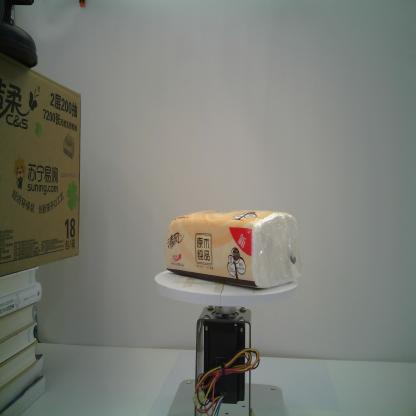Tissue: (165, 209, 302, 290)
